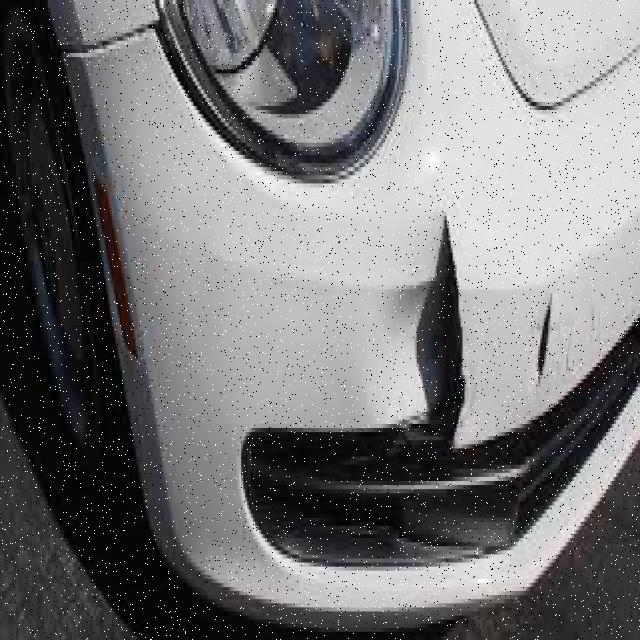front-bumper-dent: (119, 137, 578, 606)
